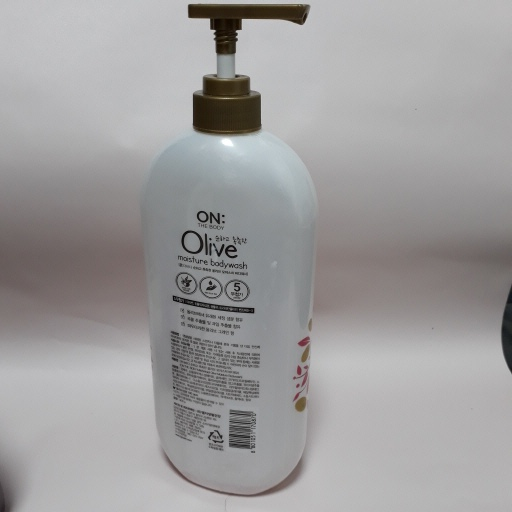Plastic_3: (133, 4, 328, 498)
